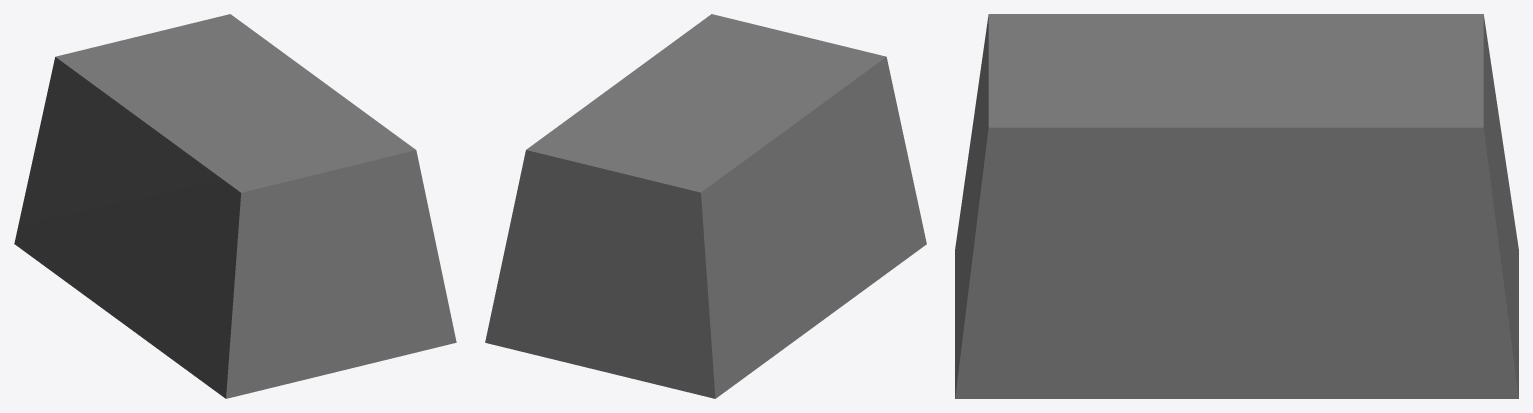
Rendered from medium-brick.glb.
3 renders of one model, left to right at view 1: azimuth 30°, elevation 25°; view 2: azimuth 150°, elevation 25°; view 3: azimuth 270°, elevation 25°, orthographic. The views are drawn at different scales.
Visible parts, largest first — view 1: building construction e medium brickModel; view 2: building construction e medium brickModel; view 3: building construction e medium brickModel.
Part boxes in pixels (left/top/right/bottom): building construction e medium brickModel: left=14, top=14, right=456, bottom=398; building construction e medium brickModel: left=485, top=14, right=926, bottom=398; building construction e medium brickModel: left=955, top=14, right=1518, bottom=398.
Bounding box in the file's own units: 0.8281 × 0.6523 × 1.32.
2 materials, 1 textured.
